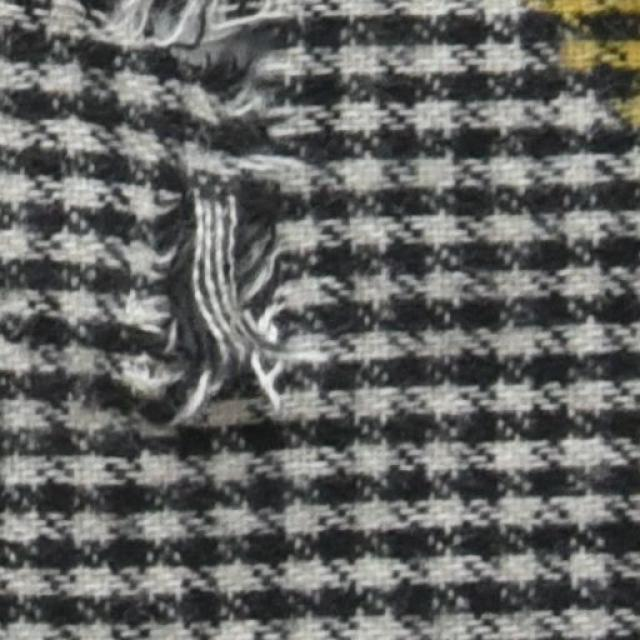Snag: (140, 115, 341, 430), (13, 0, 222, 53)
Stain: (511, 0, 639, 145)
